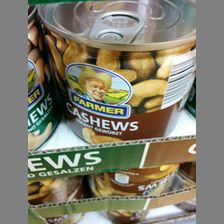nuts: (36, 1, 195, 145)
